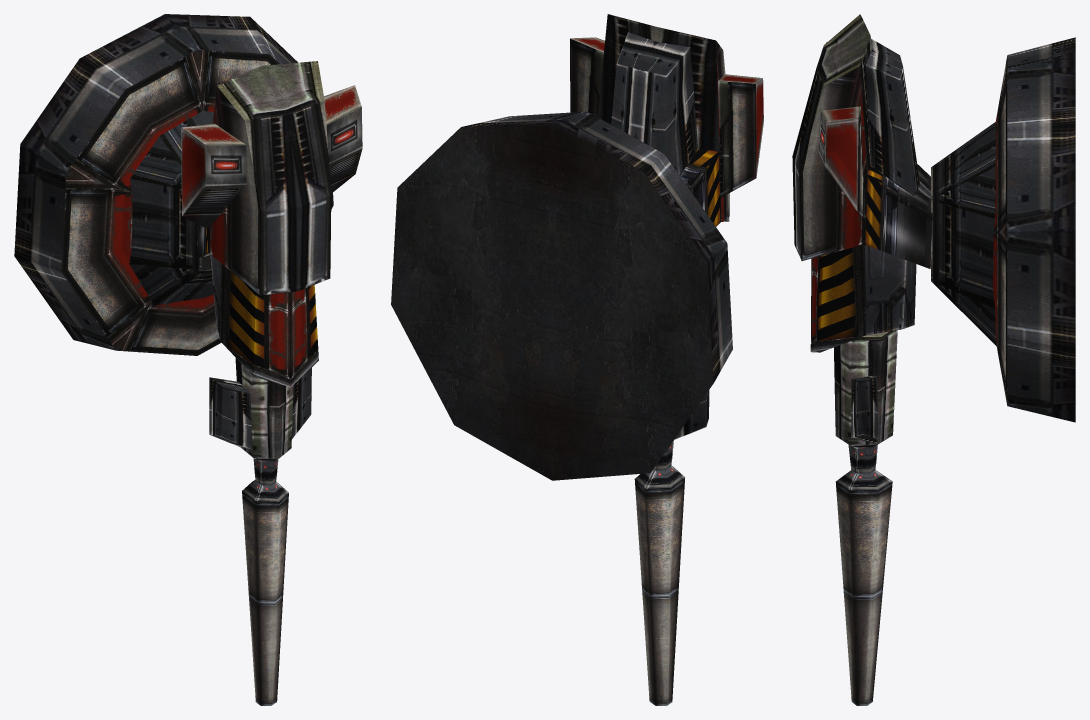
File: turret-05.obj
3 views of the same model, side by side, from view 1: azimuth 30°, elevation 25°; view 2: azimuth 150°, elevation 25°; view 3: azimuth 270°, elevation 25° (orthographic). The views are drawn at different scales.
Visible parts, largest first — view 1: turret_05; view 2: turret_05; view 3: turret_05.
Part boxes in pixels (x1,y1,x2,y2): turret_05: [14, 14, 362, 705]; turret_05: [391, 14, 763, 705]; turret_05: [792, 14, 1075, 705].
Size of the model in its own units: 3.82 by 7.69 by 2.96.
1 material, 1 textured.
